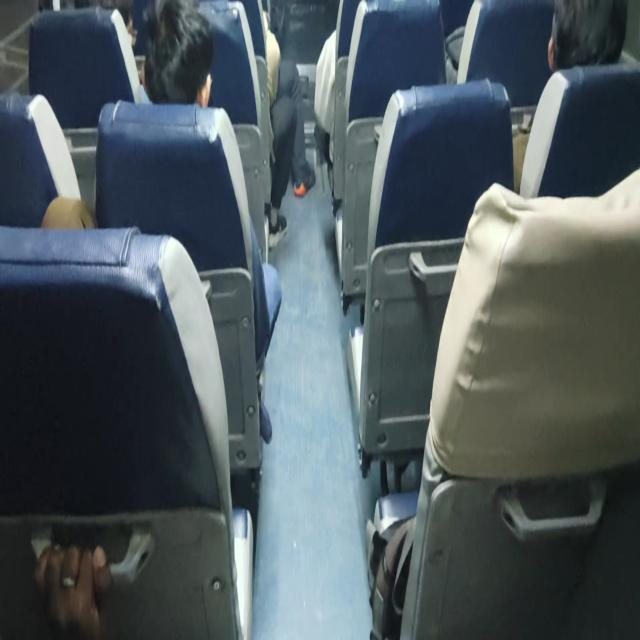person: (543, 0, 639, 81), (151, 0, 206, 94), (89, 0, 137, 52)
